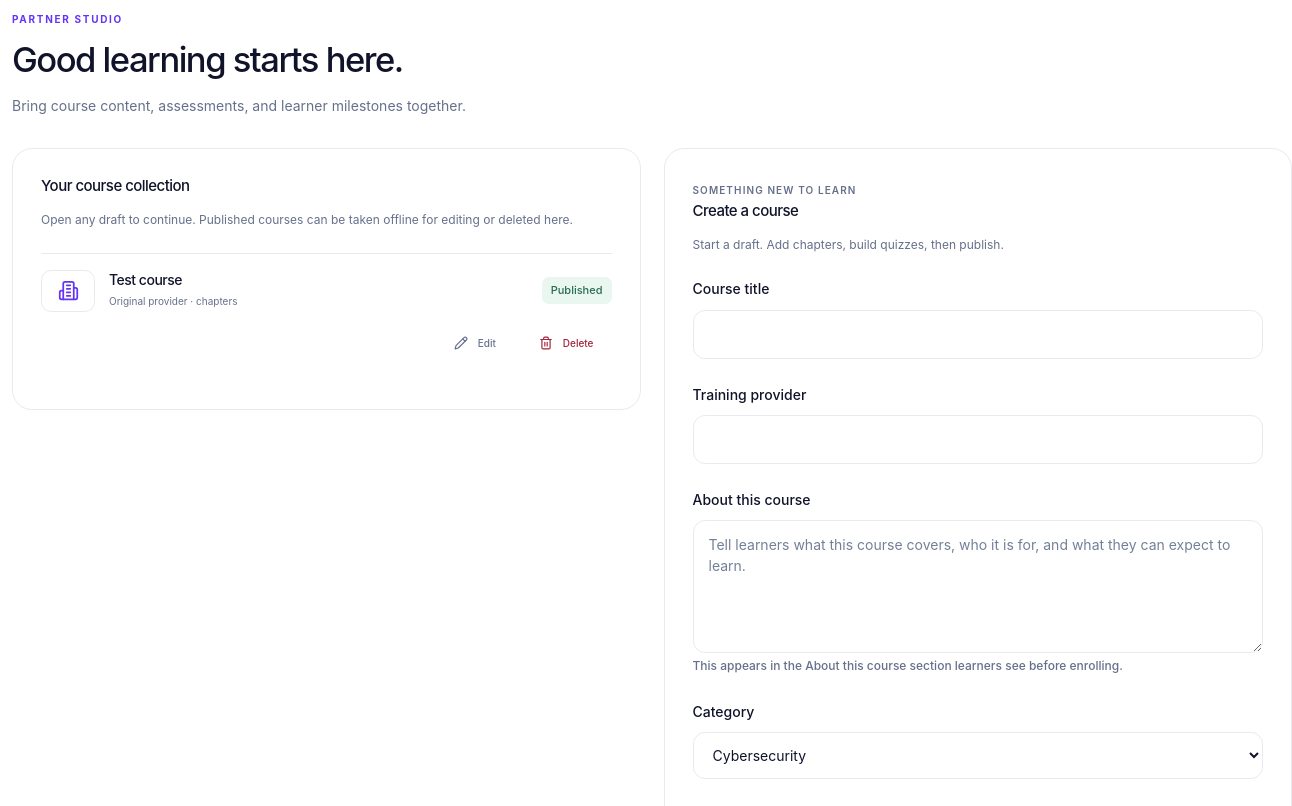
Test case: PDF and video learning materials › shows edit and confirmed delete actions for courses in Partner Studio
What coordinates should you click on to do the following:
click the button "Delete"
I would click on:
 (566, 343)
Its box is [521,321,612,365].
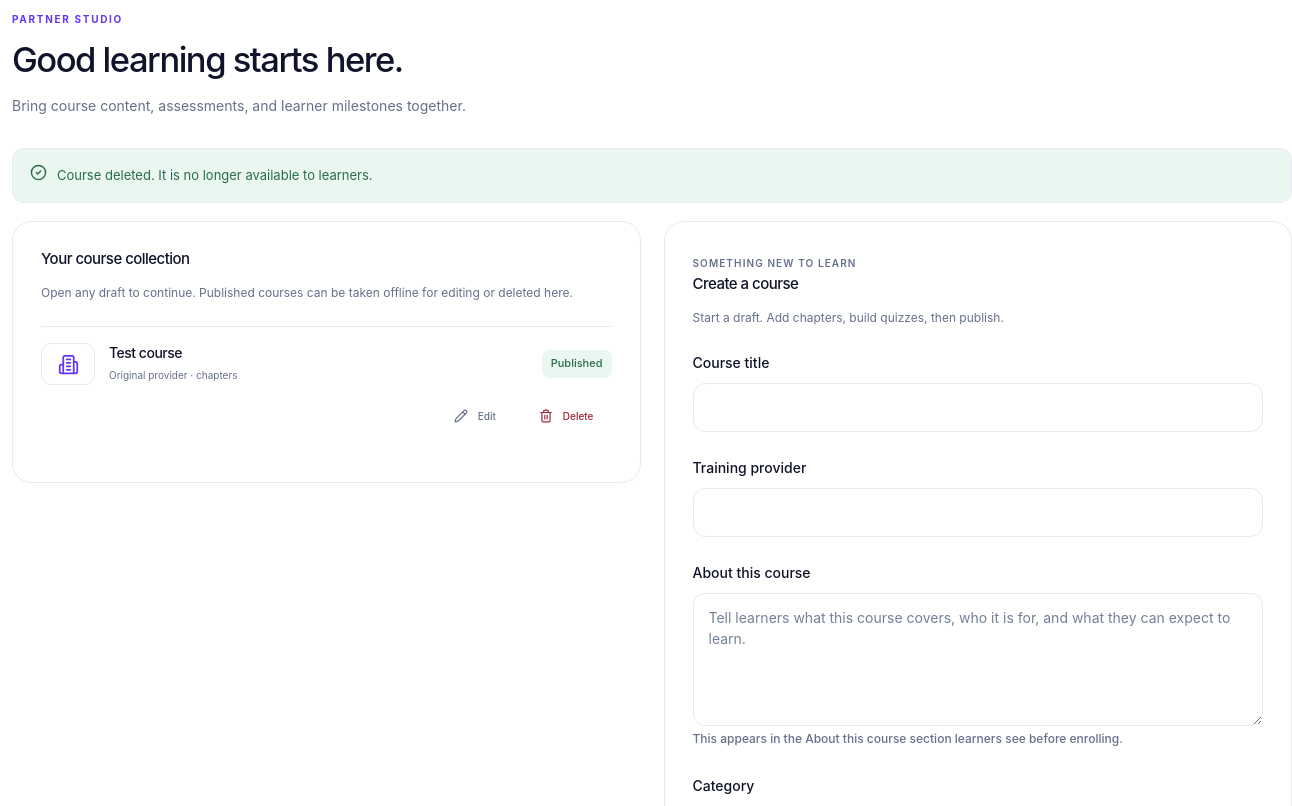
Expected: the message shows "Course deleted.", [57,167,373,183]
